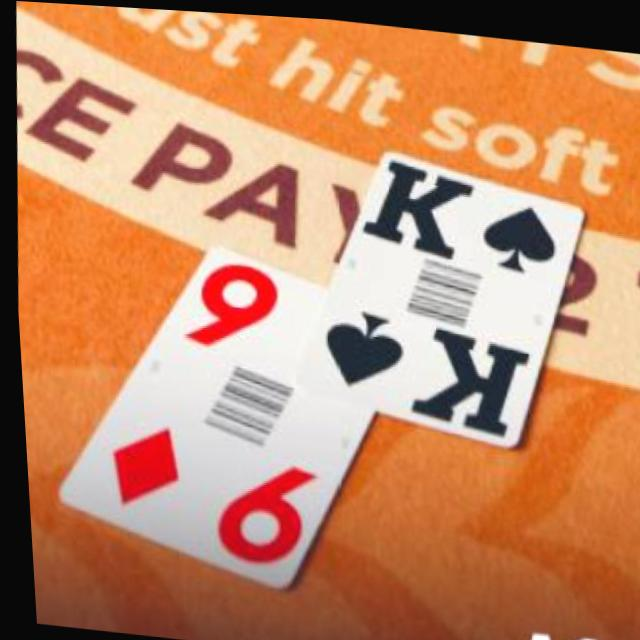Card-9: (53, 238, 371, 584)
Card-K: (291, 143, 583, 441)
